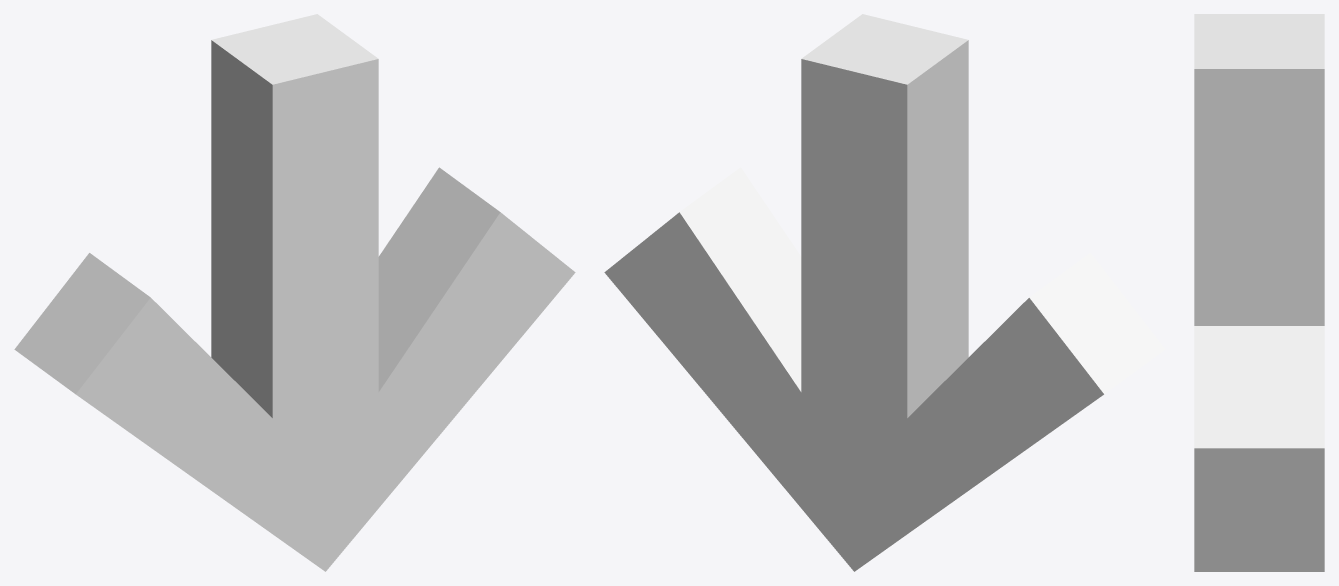
The model's file is ArrowModel.fbx.
The picture shows the model from 3 angles, left to right: view 1: azimuth 30°, elevation 25°; view 2: azimuth 150°, elevation 25°; view 3: azimuth 270°, elevation 25°; orthographic projection. The views are drawn at different scales.
Parts seen in each view (by area): view 1: ArrowModel; view 2: ArrowModel; view 3: ArrowModel.
Boxes of the visible parts, <box> form: ArrowModel: <box>14,14,575,571</box>; ArrowModel: <box>604,14,1165,571</box>; ArrowModel: <box>1194,14,1324,571</box>.
Bounding box in the file's own units: 56.49 × 54 × 12.
